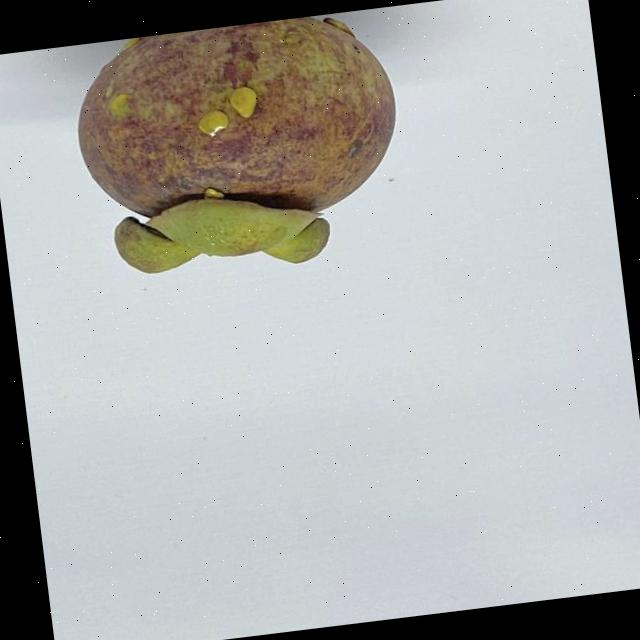mangosteen: (61, 4, 432, 318)
